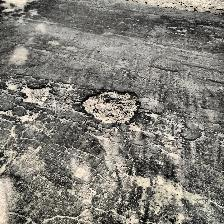pothole: (80, 88, 140, 124), (19, 84, 53, 104)
